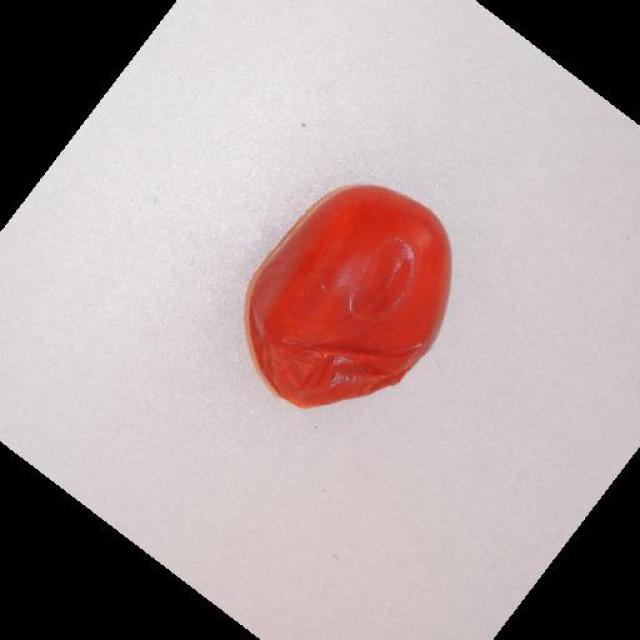Stale_tomato: (235, 162, 459, 428)
